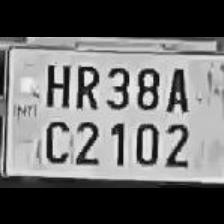0: (131, 116, 159, 164)
1: (104, 114, 128, 166)
2: (69, 114, 100, 166), (161, 118, 191, 168)
3: (101, 58, 131, 110)
8: (131, 60, 161, 110)
A: (161, 60, 191, 114)
C: (41, 111, 71, 163)
H: (40, 56, 72, 108)
R: (71, 58, 101, 110)
